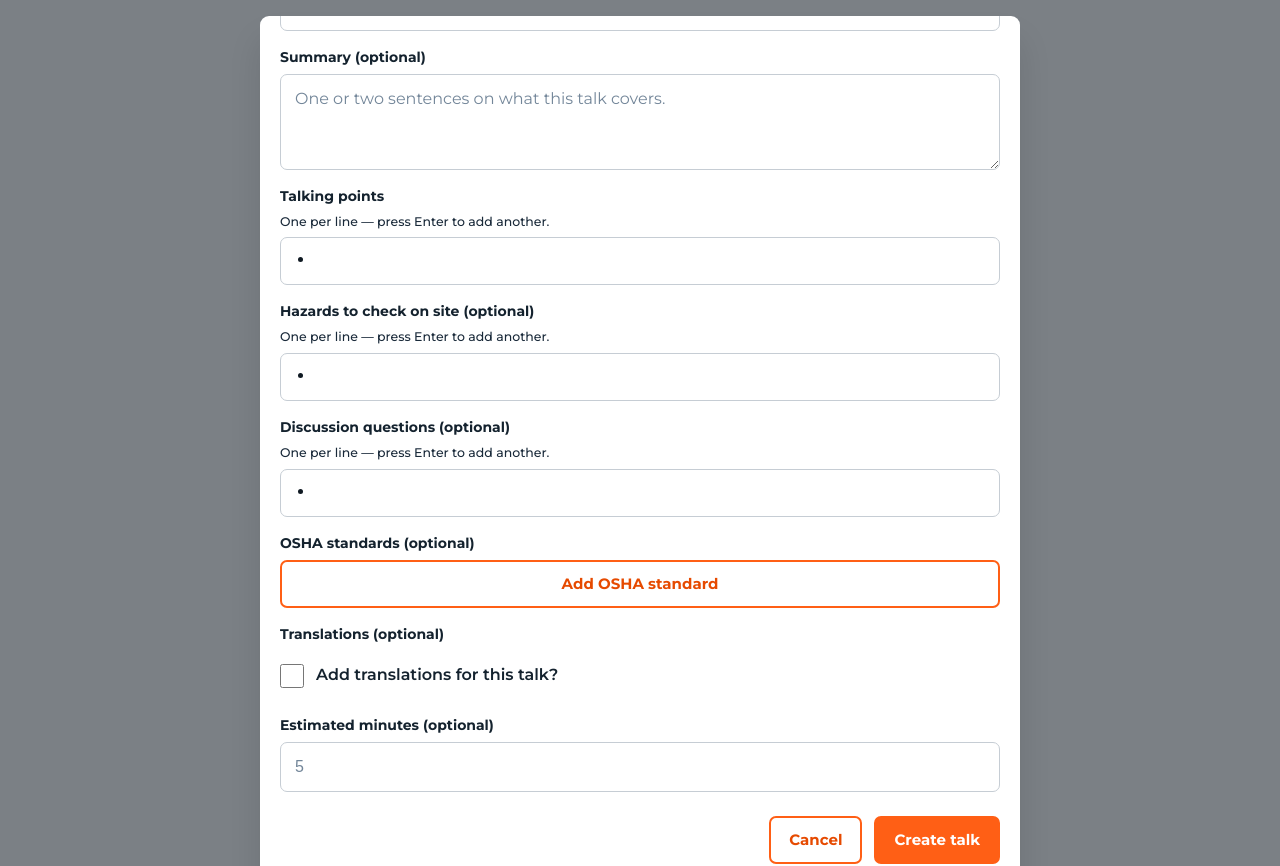
TalkForm › translations › shows an upgrade note, not the checklist, once toggled on when the caller's tier lacks translation access
This screenshot has width=1280, height=866.
(page scrolled)
Click the checkbox labelled "Add translations for this talk?".
click(292, 676)  # box [280, 664, 304, 688]
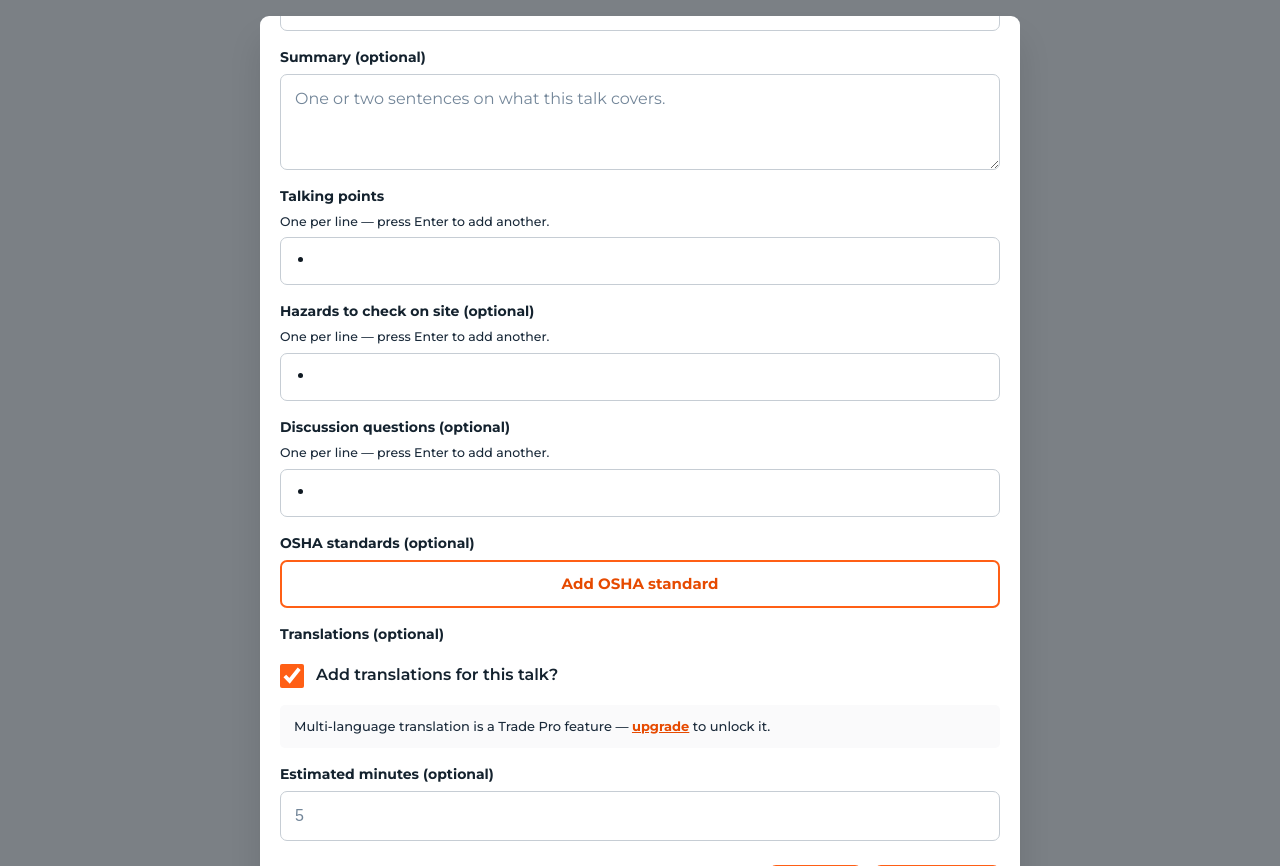
Check: the text "Trade Pro feature" is shown, box [294, 718, 628, 734]
